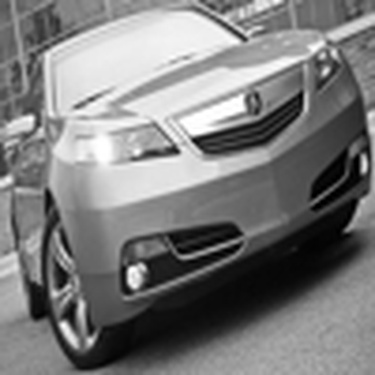car: (1, 6, 372, 372)
